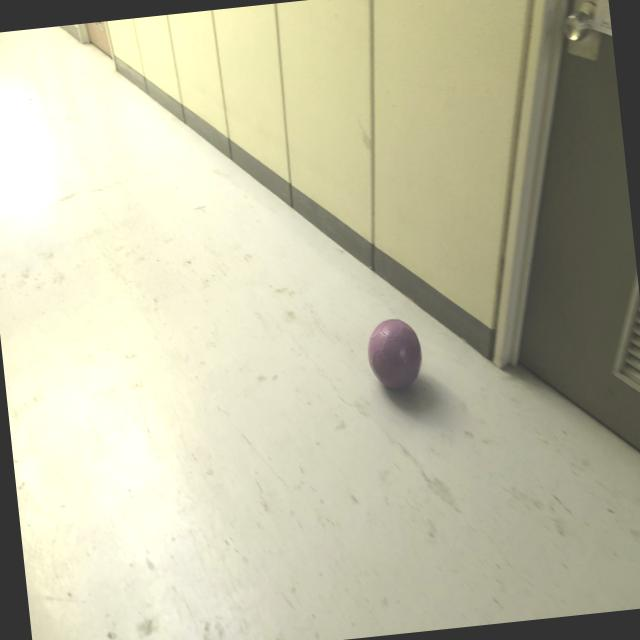purple_ball: (364, 314, 424, 391)
